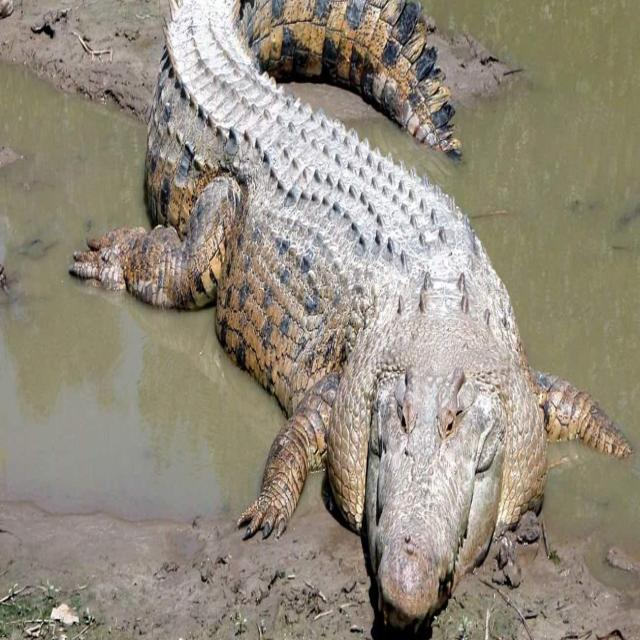crocodile: (83, 0, 629, 629)
